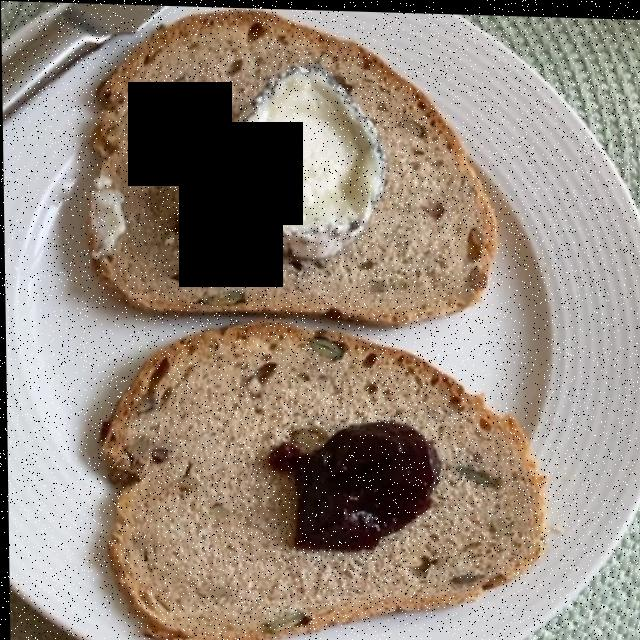bread-grain: (92, 9, 530, 635)
jam: (277, 417, 432, 564)
soft-cheese: (232, 61, 376, 254)
